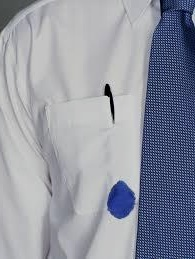ink: (106, 181, 134, 219)
